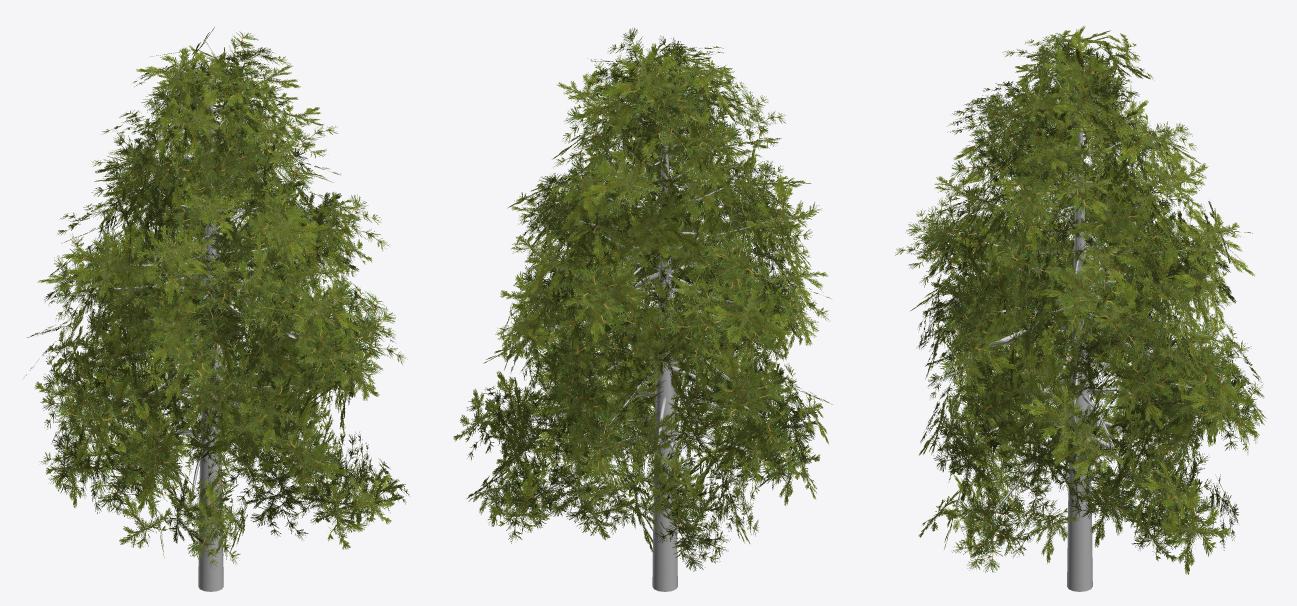
File: Australian_Pine_Model_0.obj
3 renders of one model, left to right at view 1: azimuth 30°, elevation 25°; view 2: azimuth 150°, elevation 25°; view 3: azimuth 270°, elevation 25°, orthographic.
Parts seen in each view (by area): view 1: Foliage__leafcard, Bark; view 2: Foliage__leafcard, Bark; view 3: Foliage__leafcard, Bark.
Part boxes in pixels (box(x1,y1,x2,y2)): Foliage__leafcard: box(24, 27, 409, 568); Bark: box(96, 76, 341, 591); Foliage__leafcard: box(453, 28, 832, 571); Bark: box(530, 73, 762, 591); Foliage__leafcard: box(895, 26, 1266, 574); Bark: box(975, 65, 1193, 591).
Bounding box in the file's own units: 10.37 × 15 × 9.82.
